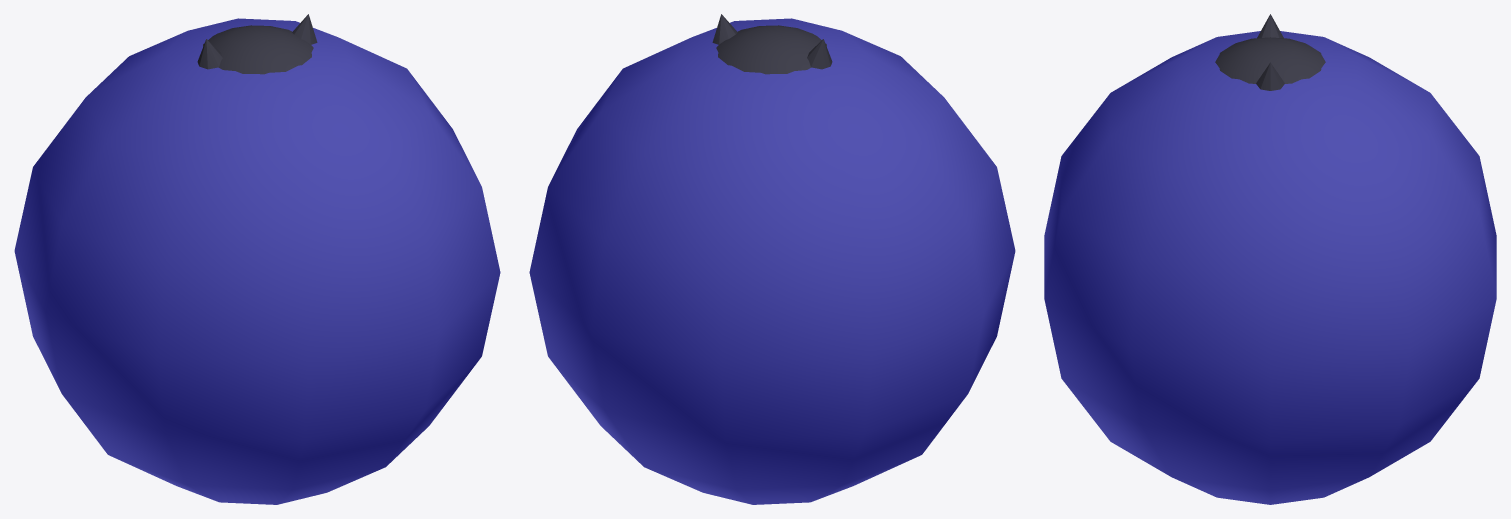
The model's file is cat-shadow.glb.
3 renders of one model, left to right at view 1: azimuth 30°, elevation 25°; view 2: azimuth 150°, elevation 25°; view 3: azimuth 270°, elevation 25°, orthographic. The views are drawn at different scales.
Visible parts, largest first — view 1: aura, head; view 2: aura, head; view 3: aura, head.
Boxes of the visible parts, x1,y1,x2,y2 form: aura: (14,18,500,504); head: (203,25,313,74); aura: (529,18,1015,504); head: (716,25,826,74); aura: (1044,31,1496,504); head: (1215,37,1325,83).
Size of the model in its own units: 3 by 3.09 by 2.85.
